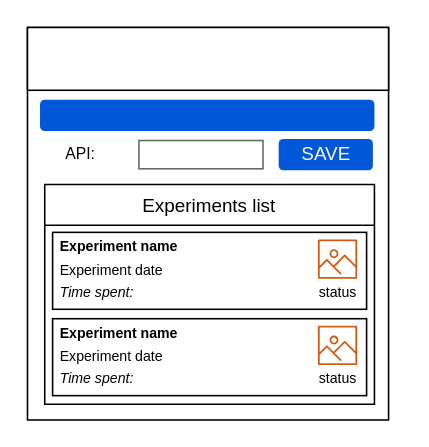
Image size: 429x447. Some labels were removed from this diagram. The shapes that lost their labels are listed below. From the top down, each one's centre as x and y in pixels, then its label:
At point 207,58: "lab21_Lukyanov".
At point 206,114: "SELECT TAG".
